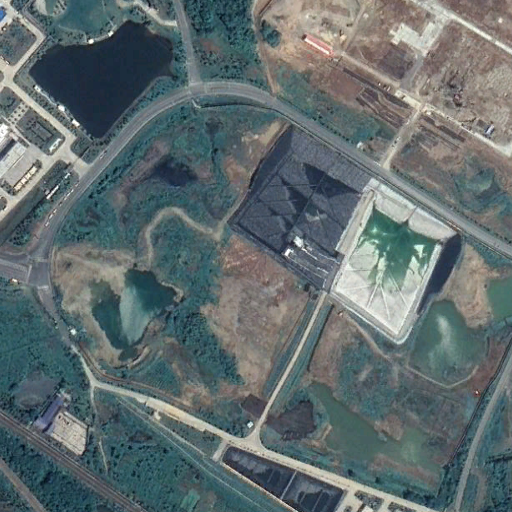lf: (229, 123, 461, 348)
